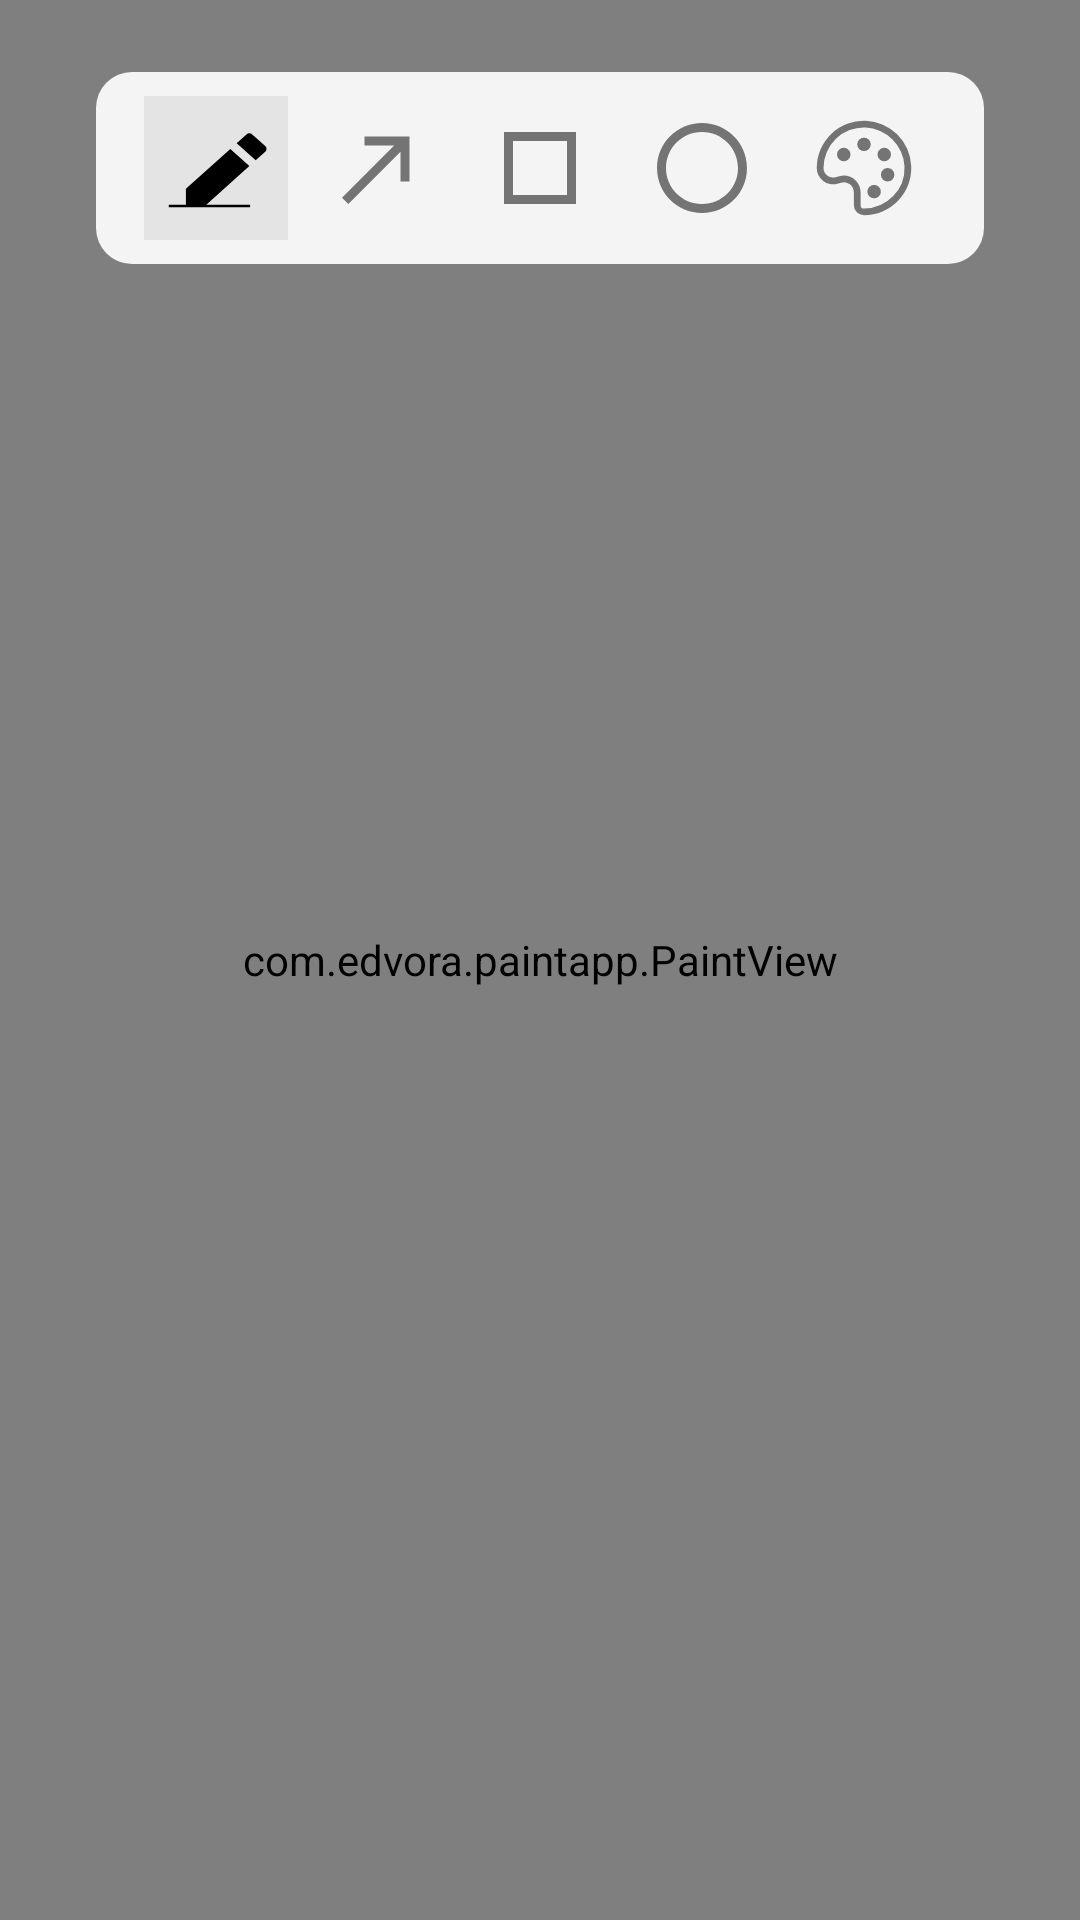

Screen size 1080 x 1920. Icon name, then its box in pixels as (x1, y1, x2, y2):
Change color of paint tools: (816, 120, 912, 216)
Draw arrow on screen: (342, 136, 410, 204)
Draw on screen: (144, 96, 288, 240)
